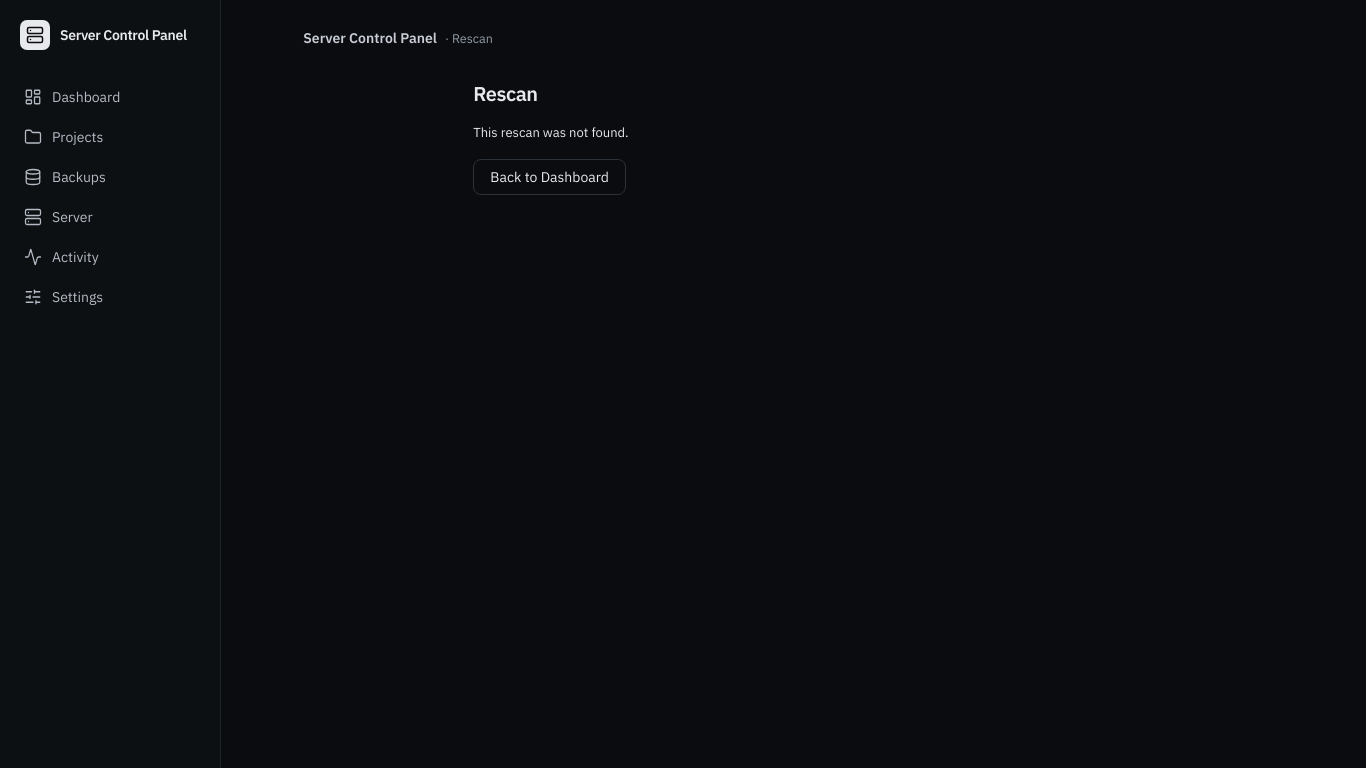
Test: rescan page, progress › shows a not-found message without Retry for an id that is not a job number
Expected: the text "This rescan was not found." is shown, [473,124,629,141]
Expected: the button "Retry" is not shown
Click the button "Back to Dashboard": [550, 177] box [473,159,626,195]
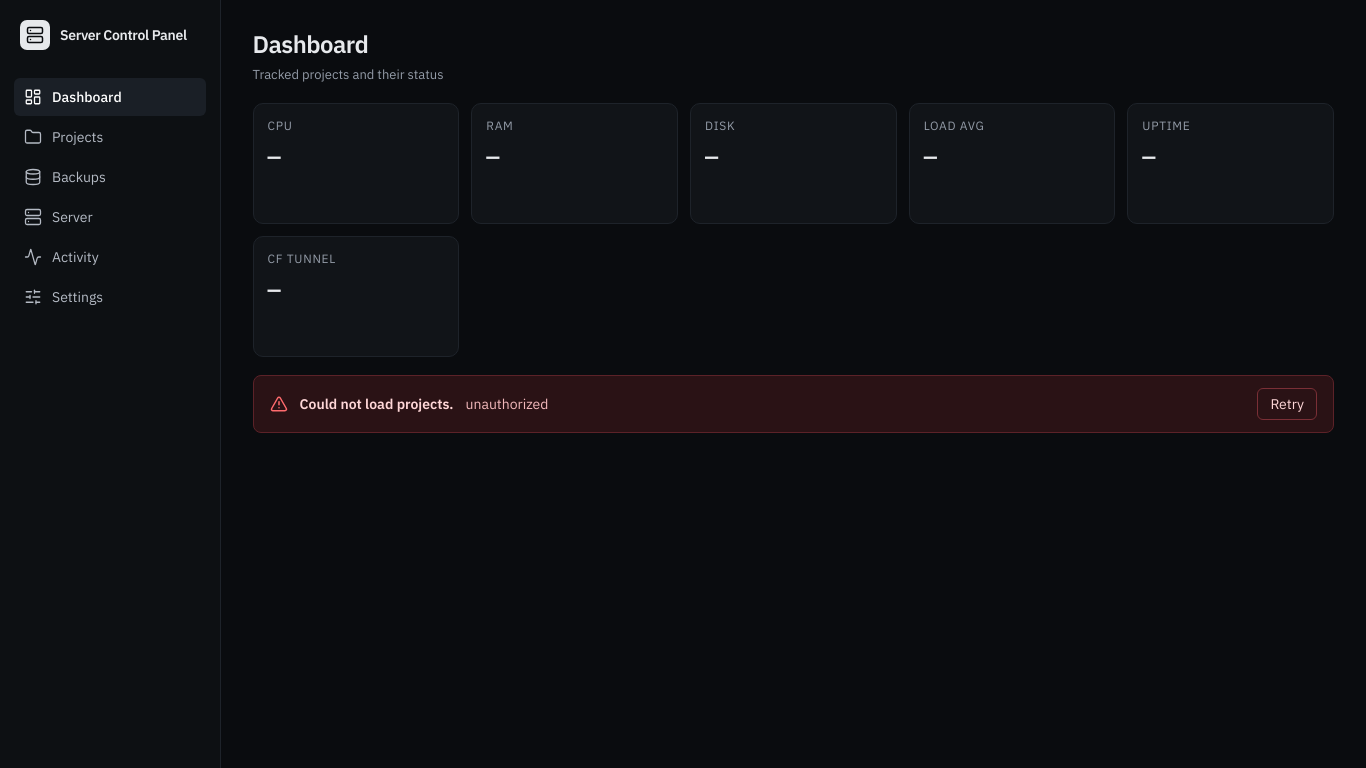
Expected: the heading "Dashboard" is shown, [253,28,368,60]
